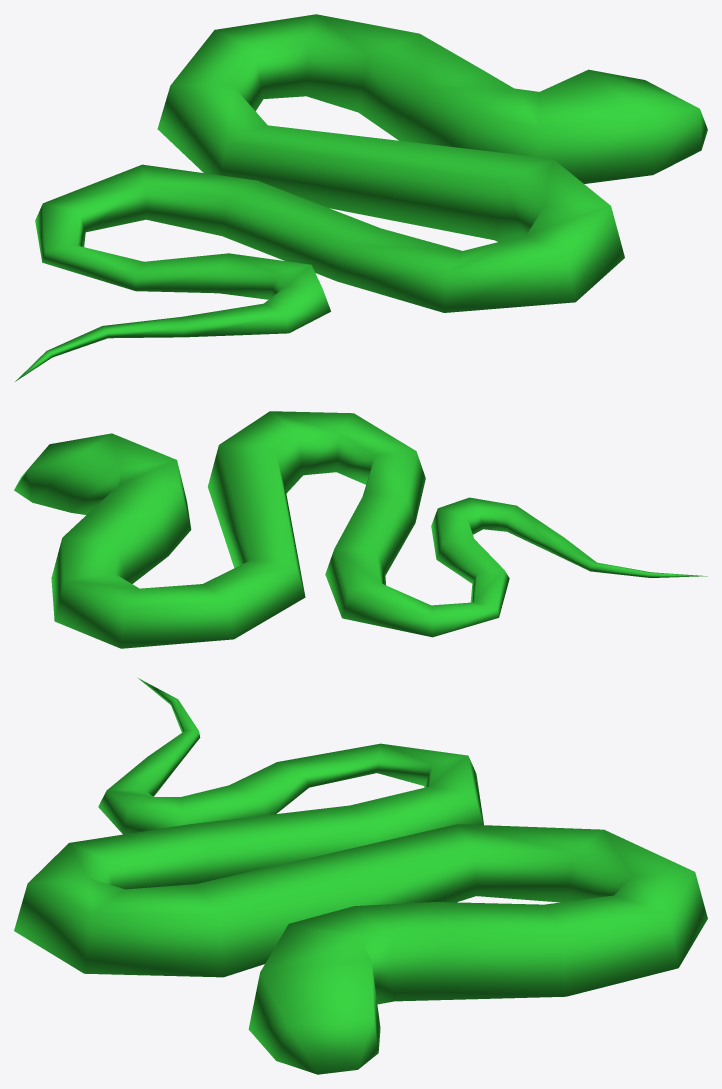
File: Snake.fbx
The picture shows the model from 3 angles, top to bottom: view 1: azimuth 30°, elevation 25°; view 2: azimuth 150°, elevation 25°; view 3: azimuth 270°, elevation 25°; orthographic projection. The views are drawn at different scales.
Parts seen in each view (by area): view 1: Snake 02; view 2: Snake 02; view 3: Snake 02.
Part boxes in pixels (x1,y1,x2,y2): Snake 02: (15,14,707,381); Snake 02: (14,411,707,648); Snake 02: (14,677,707,1074).
Size of the model in its own units: 0.6546 by 0.0538 by 0.4848.
